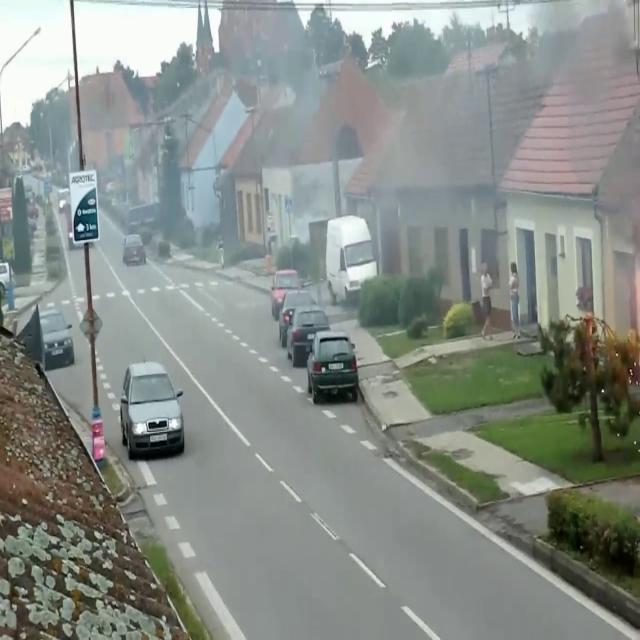Smoke: (284, 19, 522, 314)
